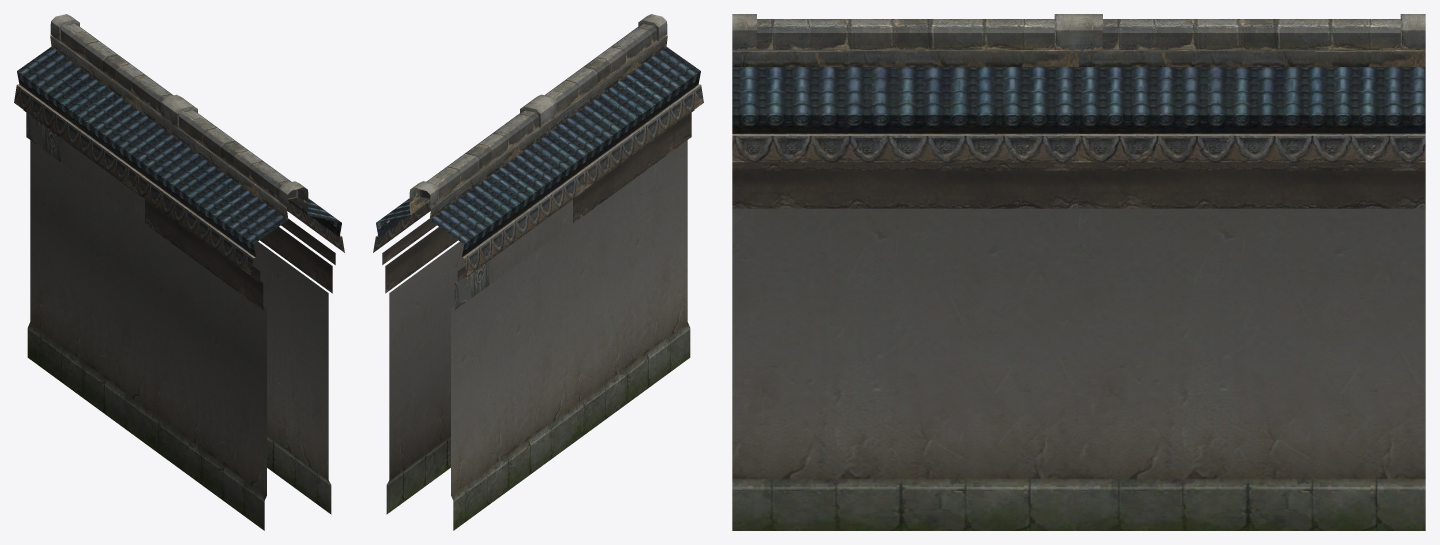
The model's file is jz_weiqiang03_53_45_6512out.fbx.
The picture shows the model from 3 angles, left to right: view 1: azimuth 30°, elevation 25°; view 2: azimuth 150°, elevation 25°; view 3: azimuth 270°, elevation 25°; orthographic projection. The views are drawn at different scales.
Visible parts, largest first — view 1: jz_weiqiang03; view 2: jz_weiqiang03; view 3: jz_weiqiang03.
Part boxes in pixels (box(x1,y1,x2,y2)): jz_weiqiang03: box(14, 14, 344, 530); jz_weiqiang03: box(373, 14, 703, 530); jz_weiqiang03: box(732, 14, 1425, 530).
Bounding box in the file's own units: 1.44 × 4.9 × 6.29.
